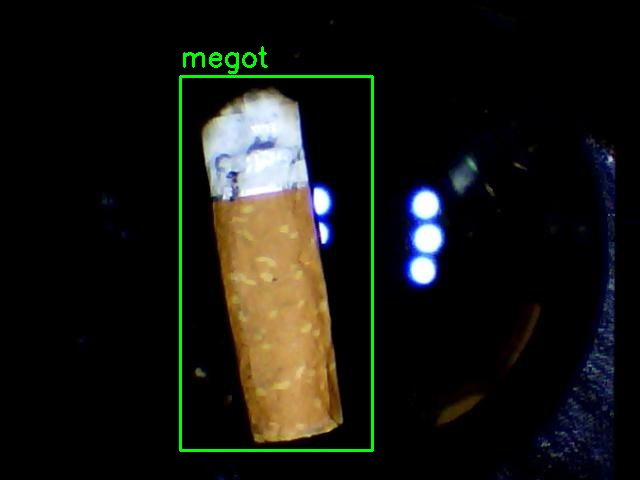megot: (180, 76, 372, 450)
